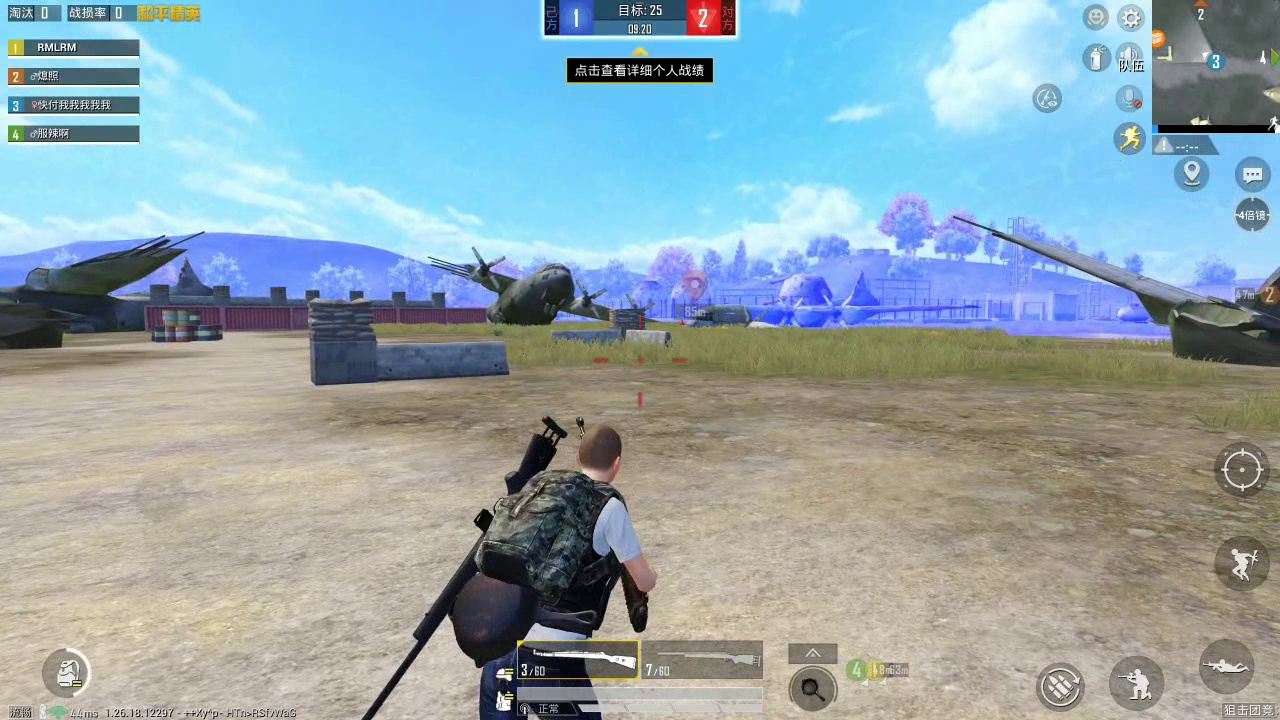enemy: (679, 318, 686, 326)
